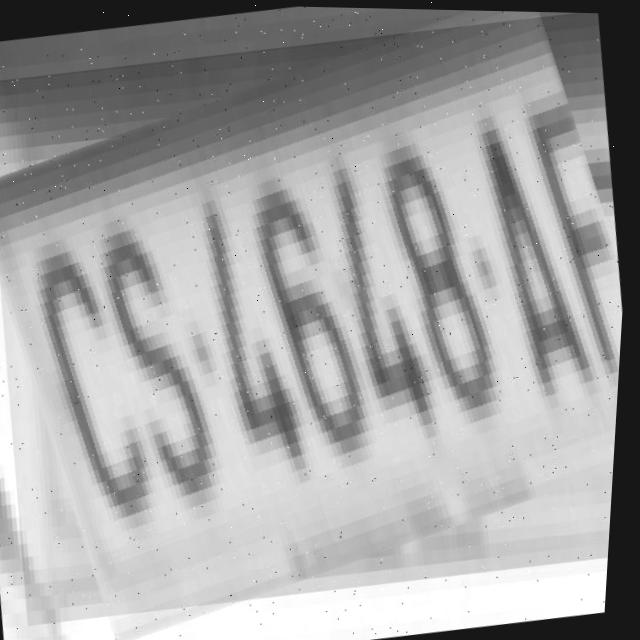LicensePlate: (0, 0, 640, 635)
